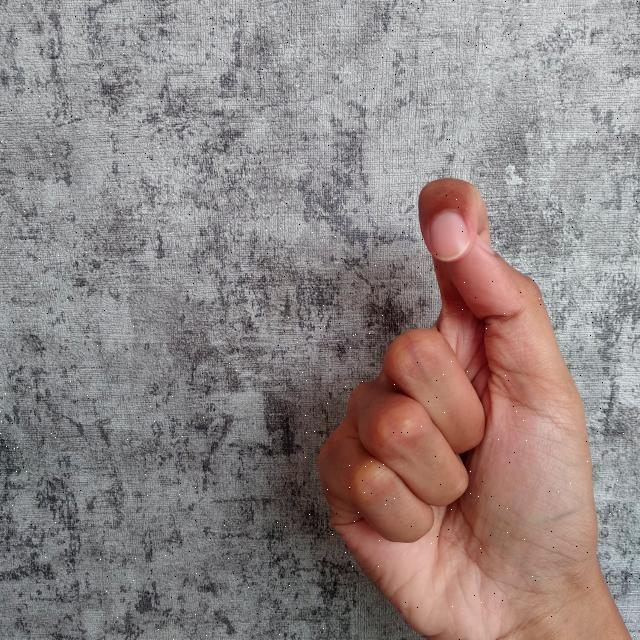T: (312, 170, 640, 640)
